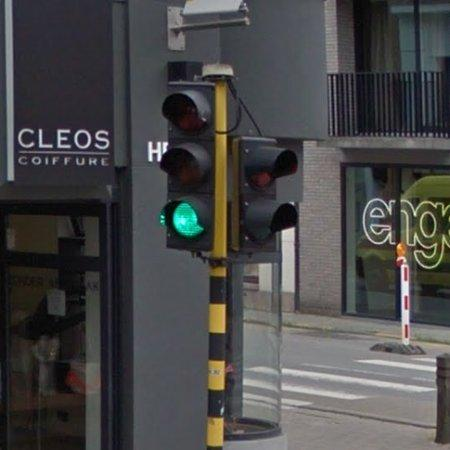traffic lights: (158, 80, 217, 253), (230, 136, 300, 255)
